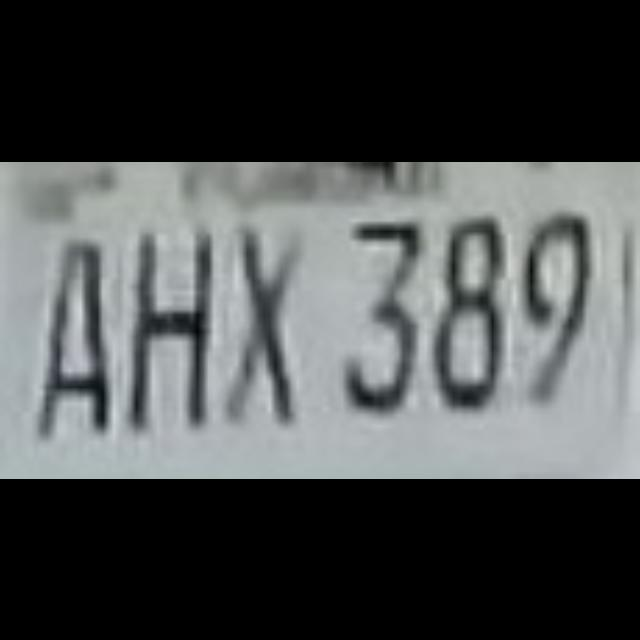3: (308, 212, 404, 428)
8: (406, 212, 502, 428)
9: (500, 212, 596, 428)
A: (22, 212, 118, 428)
H: (120, 212, 214, 428)
X: (214, 212, 310, 428)
